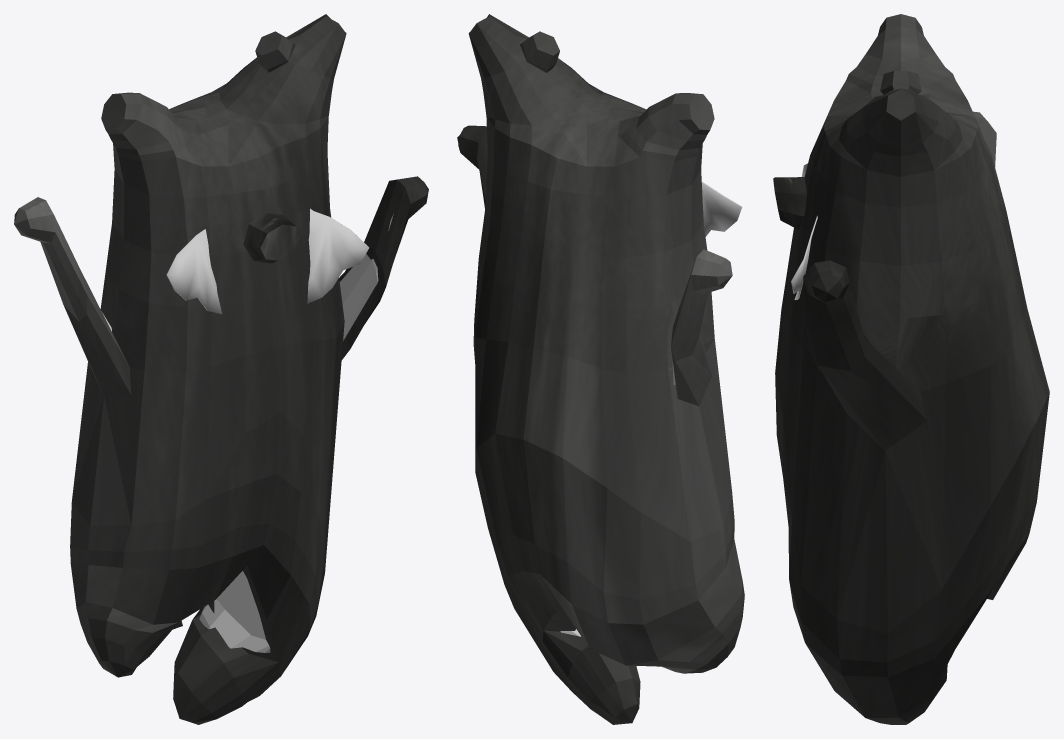
Rendered from frame_0019.obj.
3 renders of one model, left to right at view 1: azimuth 30°, elevation 25°; view 2: azimuth 150°, elevation 25°; view 3: azimuth 270°, elevation 25°, orthographic. The views are drawn at different scales.
Visible parts, largest first — view 1: korok, leaf, nose; view 2: korok, leaf; view 3: korok, nose, leaf.
Boxes of the visible parts, left/top/right/bottom form: korok: left=14, top=14, right=428, bottom=724; leaf: left=166, top=208, right=369, bottom=313; nose: left=243, top=213, right=299, bottom=263; korok: left=457, top=14, right=744, bottom=724; leaf: left=701, top=181, right=742, bottom=236; korok: left=775, top=14, right=1049, bottom=724; nose: left=773, top=177, right=806, bottom=229; leaf: left=791, top=163, right=817, bottom=300.
Bounding box in the file's own units: 1.78 × 3.33 × 1.19.
